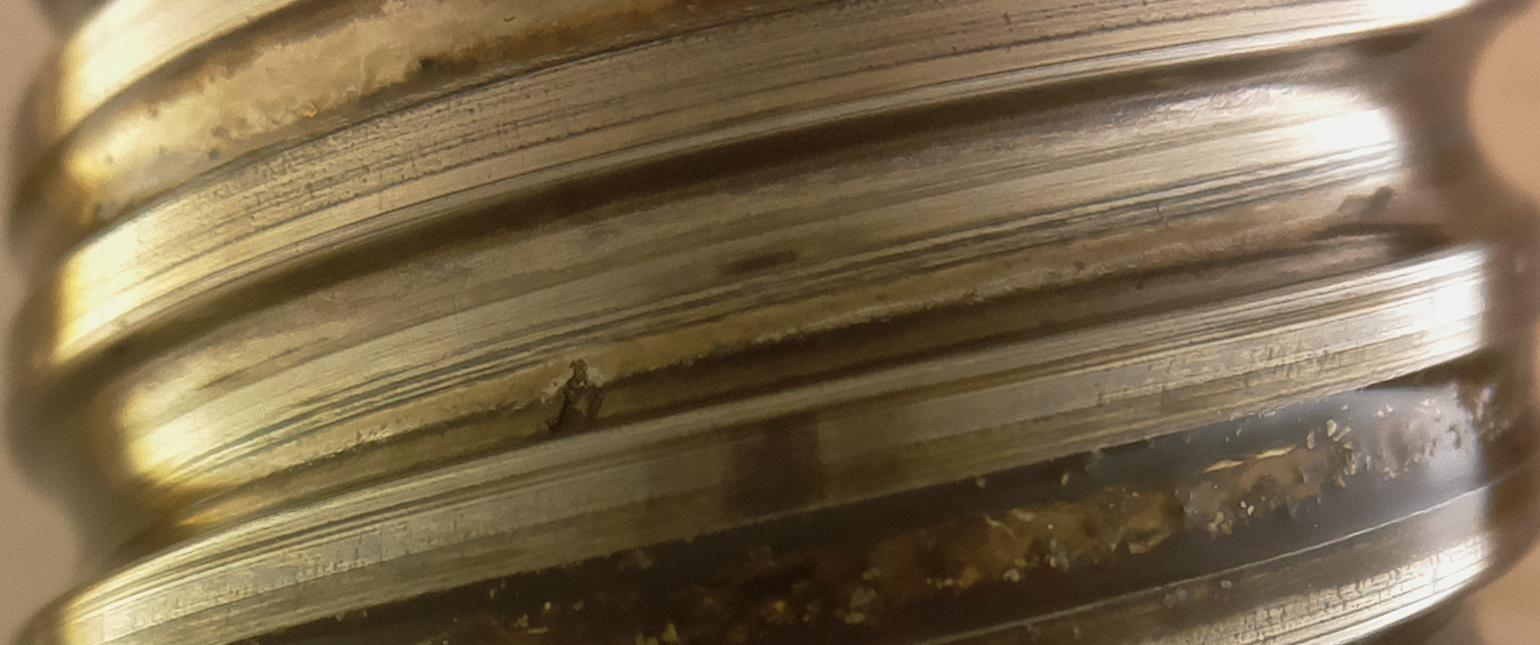pitting: (544, 359, 610, 438)
